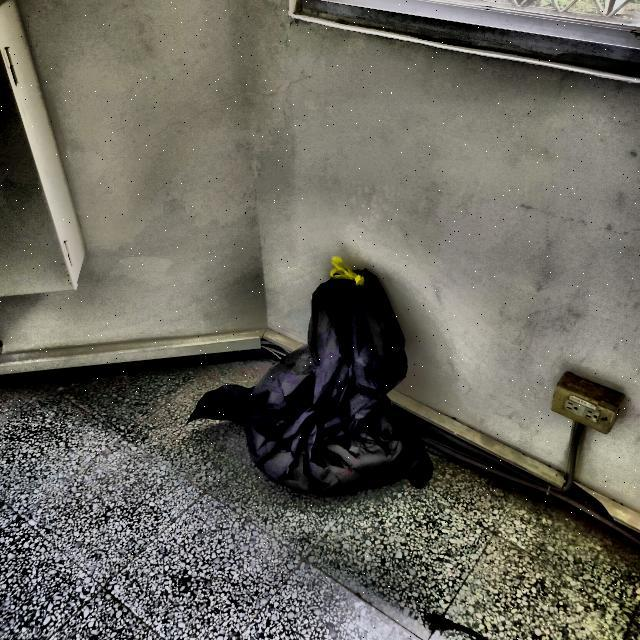Trashbag: (179, 251, 439, 505)
